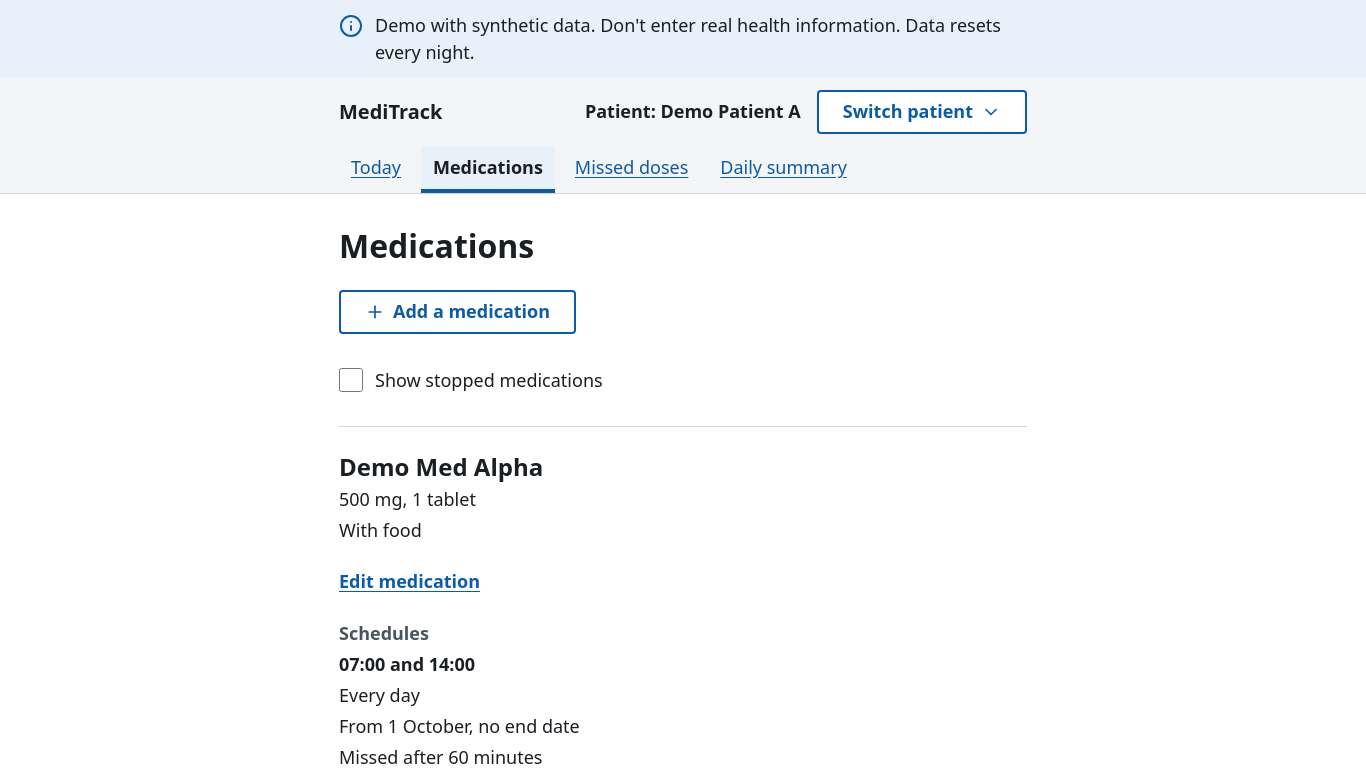
Scenario: Patient switcher › says when the patient list could not be loaded, with Retry
This screenshot has width=1366, height=768.
Click the button "Switch patient" at (922, 112), box top-left (817, 90), bottom-right (1027, 134)
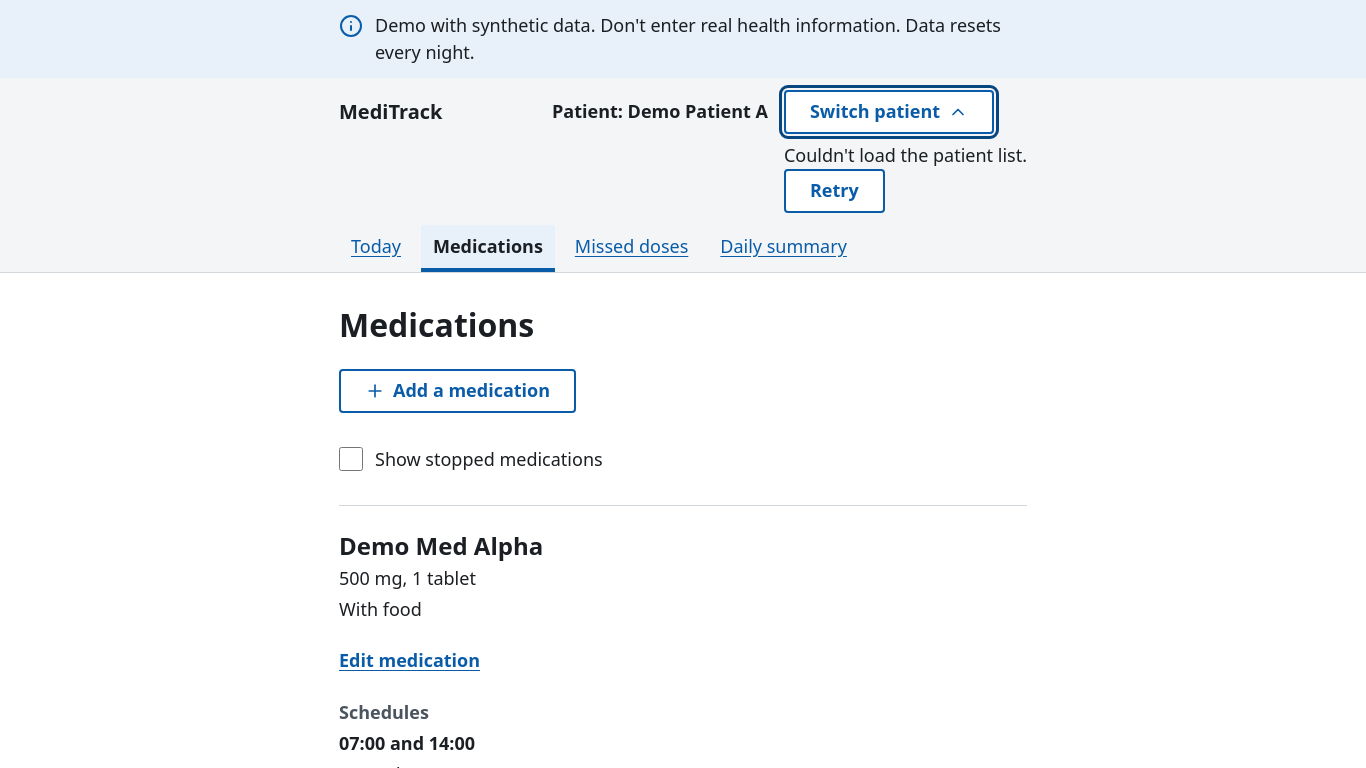
Check: the text "Couldn't load the patient list." is shown, box top-left (784, 142), bottom-right (1027, 169)
Click the button "Retry" at (834, 191), box top-left (784, 169), bottom-right (885, 213)
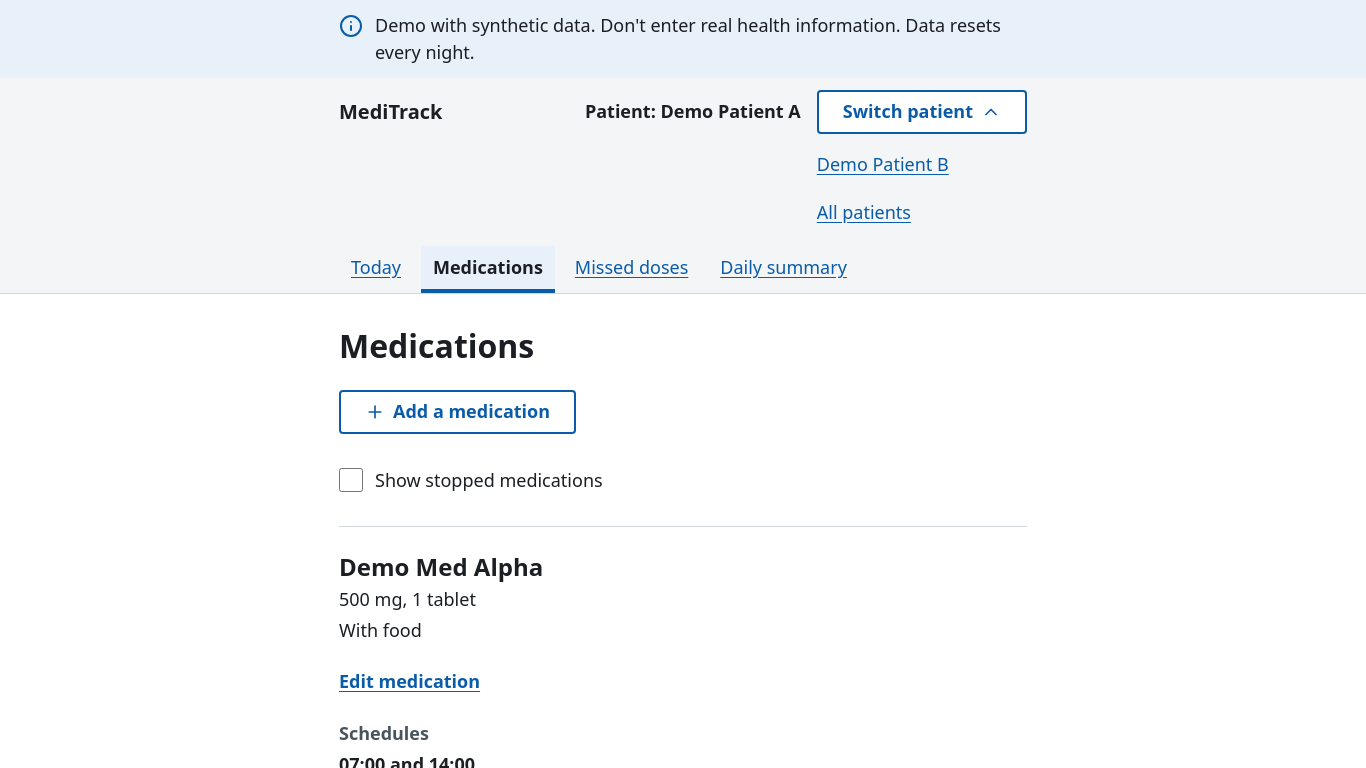
Check: the link "Demo Patient B" is shown, box top-left (817, 152), bottom-right (949, 176)
